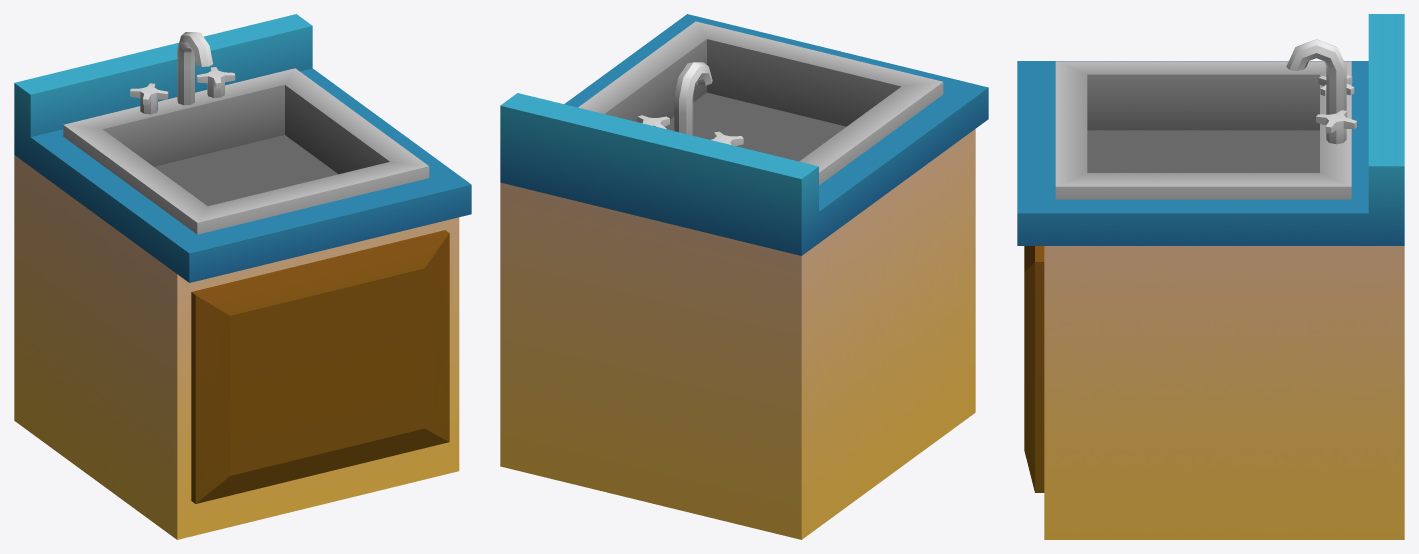
The model's file is Sink Kitchen.fbx.
The picture shows the model from 3 angles, left to right: view 1: azimuth 30°, elevation 25°; view 2: azimuth 150°, elevation 25°; view 3: azimuth 270°, elevation 25°; orthographic projection. The views are drawn at different scales.
Parts seen in each view (by area): view 1: Sink_Kitchen; view 2: Sink_Kitchen; view 3: Sink_Kitchen.
Boxes of the visible parts, <box> form: Sink_Kitchen: <box>14,14,471,539</box>; Sink_Kitchen: <box>500,14,988,539</box>; Sink_Kitchen: <box>1017,14,1404,539</box>.
Bounding box in the file's own units: 1 × 1.3 × 1.08.
